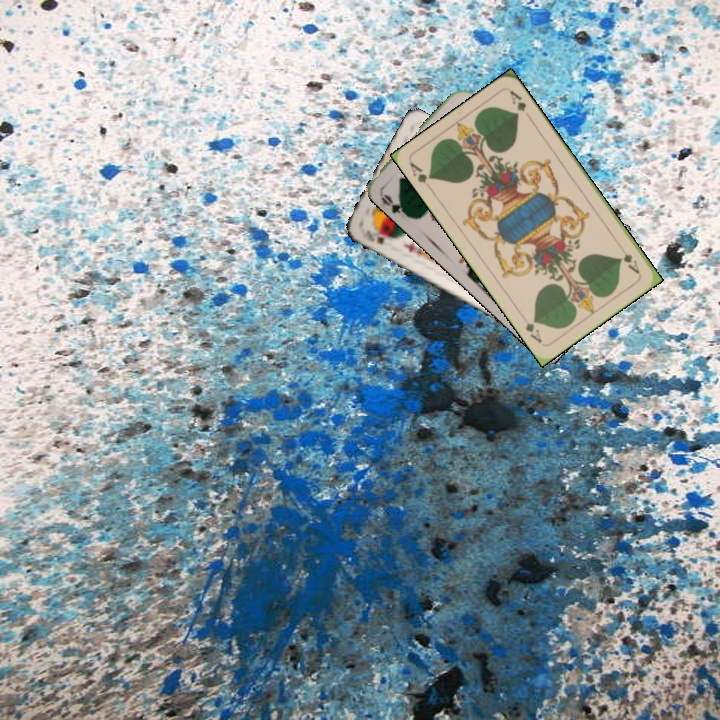GA: (406, 158, 435, 194), (614, 241, 643, 277)
GO: (377, 190, 410, 219)
SK: (362, 226, 387, 247)
